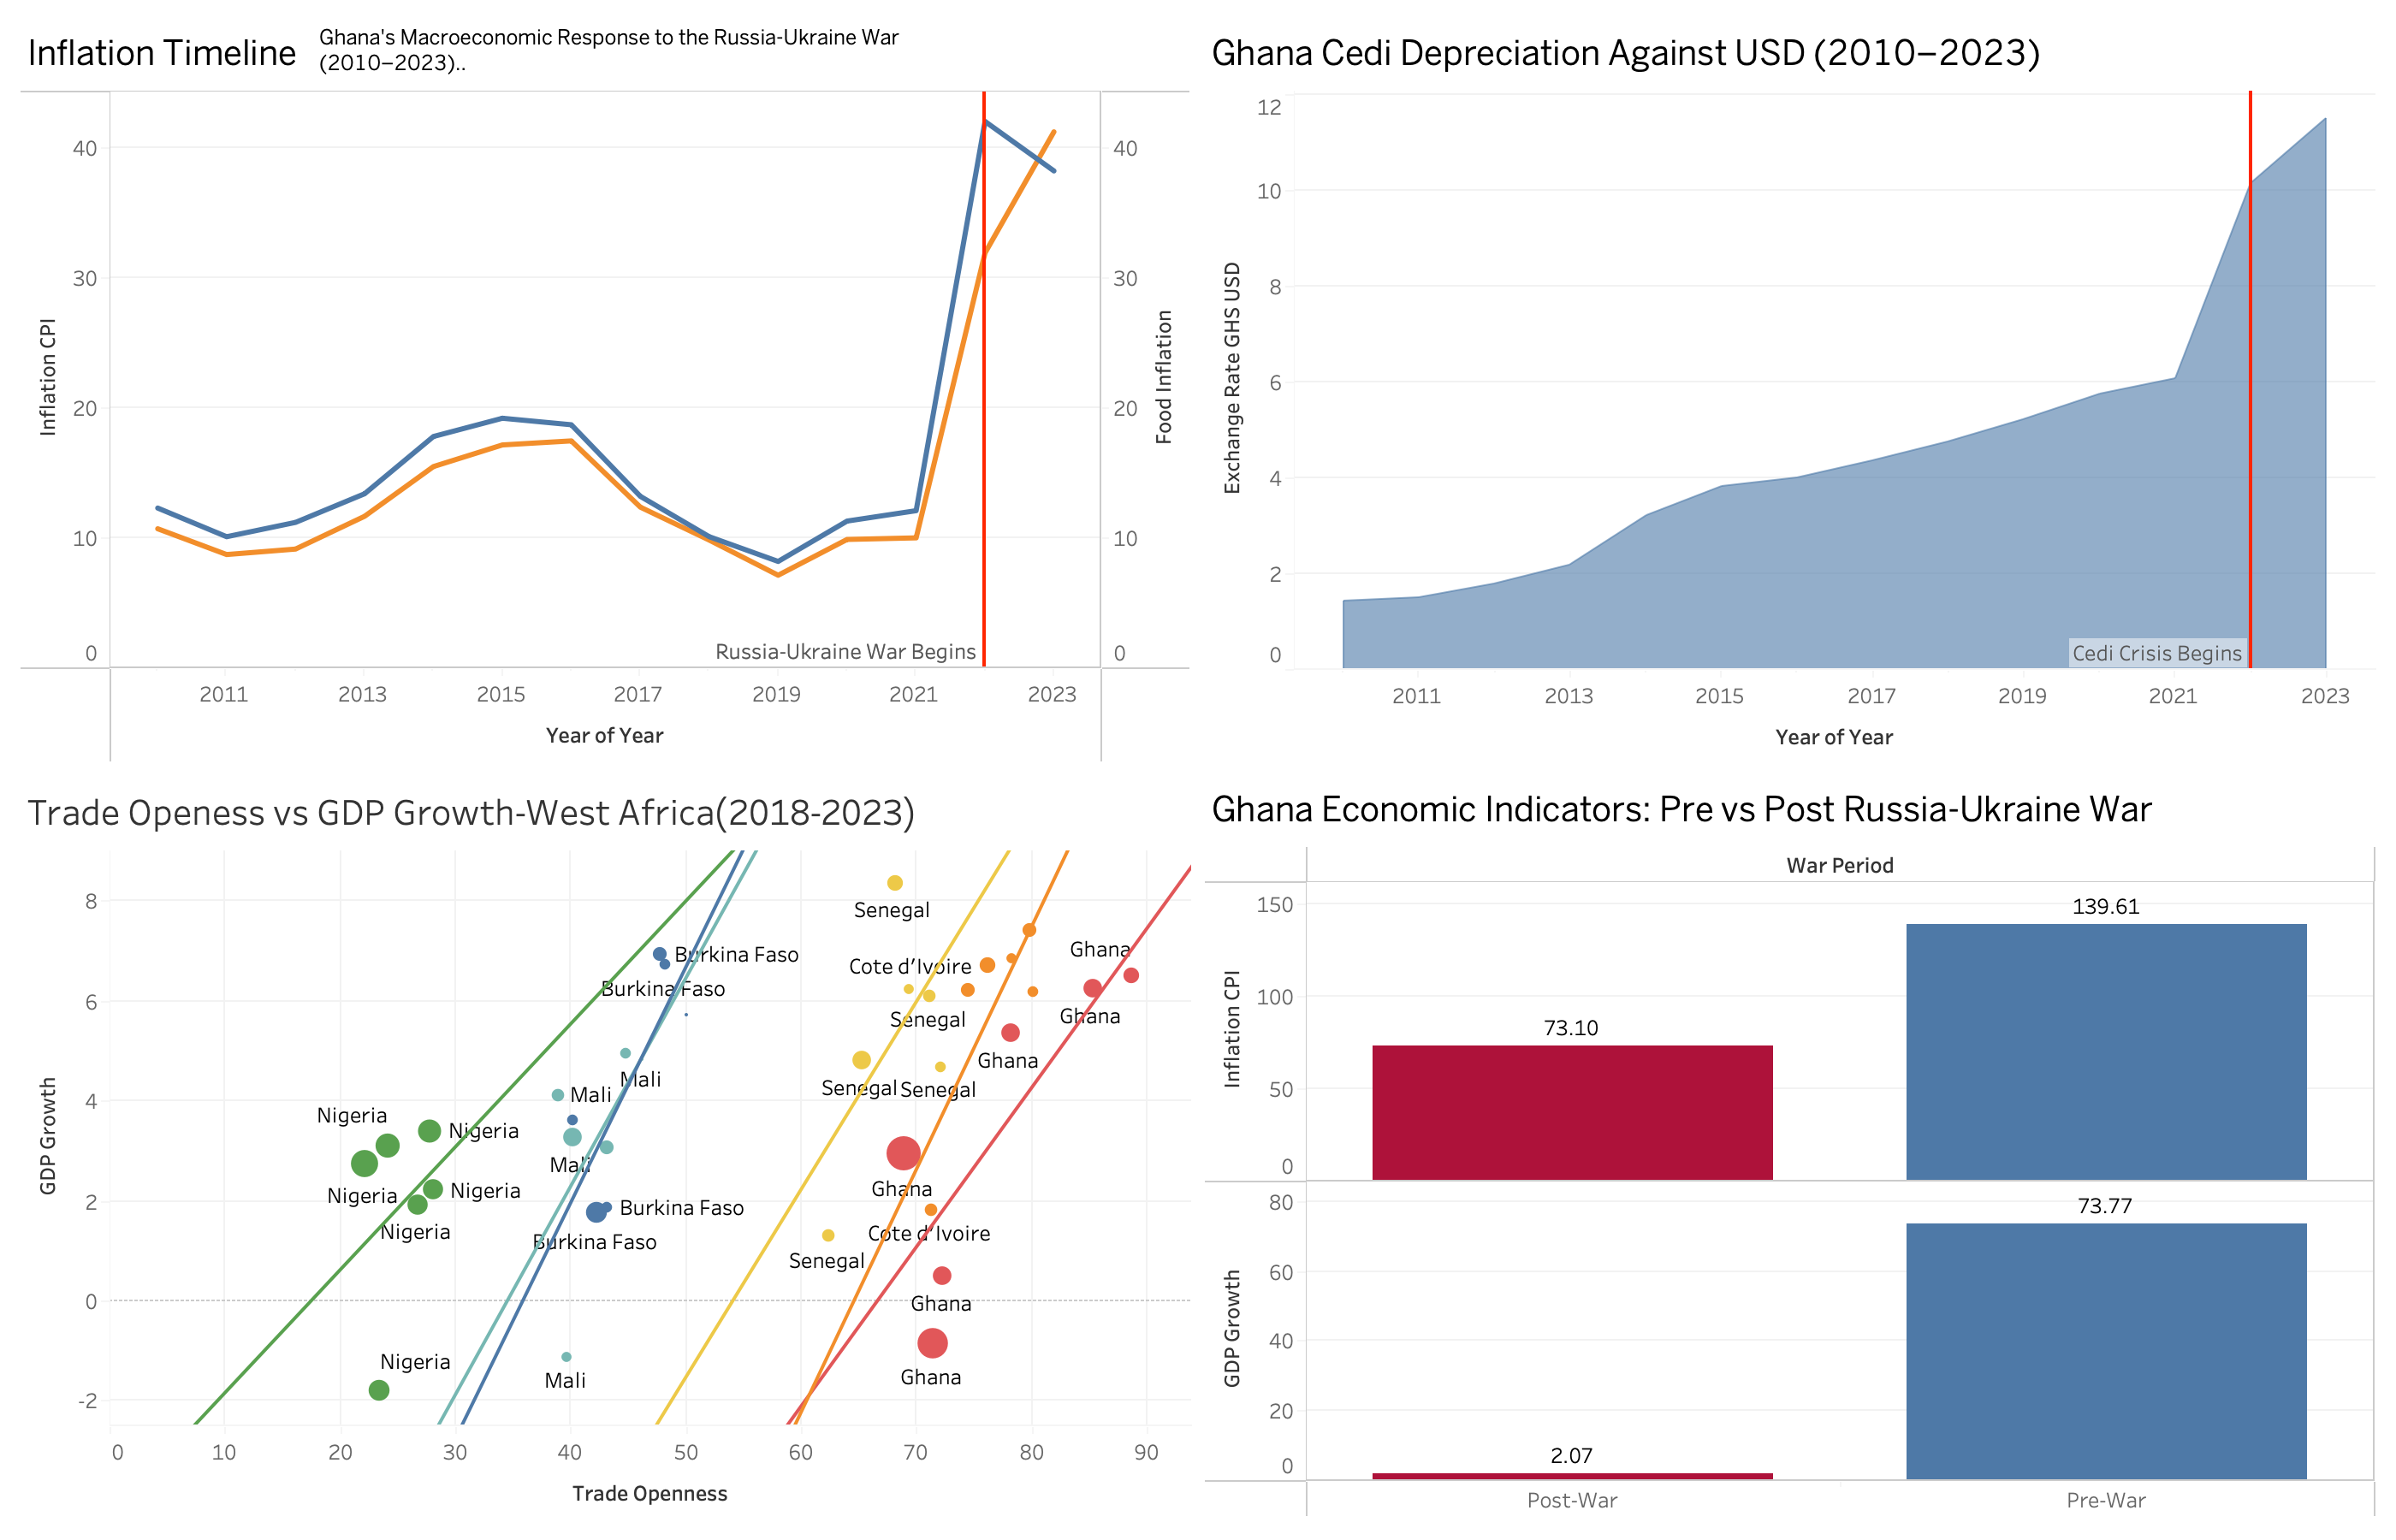

Layout of this report page (visuals, bound fields, positions):
{"tool":"tableau","page":{"name":"Dashboard 1","canvas":[1400,900],"ordinal":0},"visuals":[{"type":"worksheet","title":"Ghana CPI Inflation: The Russia-Ukraine Shock (2010–2023)","mark":"Automatic","rows":["Inflation_CPI","Food_Inflation"],"cols":["Year"],"box":[8,8,692,442]},{"type":"worksheet","title":"Exchange Rate","mark":"Area","rows":["Exchange_Rate_GHS_USD"],"cols":["Year"],"box":[700,8,692,442]},{"type":"text","box":[184,10,409,39]},{"type":"worksheet","title":"Trade vs Growth","mark":"Circle","rows":["GDP_Growth"],"cols":["Trade_Openness"],"box":[8,450,692,442]},{"type":"worksheet","title":"Macro Scorecard","mark":"Bar","rows":["Inflation_CPI","GDP_Growth"],"cols":["Calculation_1295164258807808"],"box":[700,450,692,442]}]}

Visuals, with their boxes in screenshot pixels (x1, y1, x2, y2), scaled from the page's 1400x900 canvas onto the 2396x1540 screenshot:
"Ghana CPI Inflation: The Russia-Ukraine Shock (2010–2023)" worksheet: 14/14/1198/770
"Exchange Rate" worksheet (Area marks): 1198/14/2382/770
text: 315/17/1015/84
"Trade vs Growth" worksheet (Circle marks): 14/770/1198/1526
"Macro Scorecard" worksheet (Bar marks): 1198/770/2382/1526
